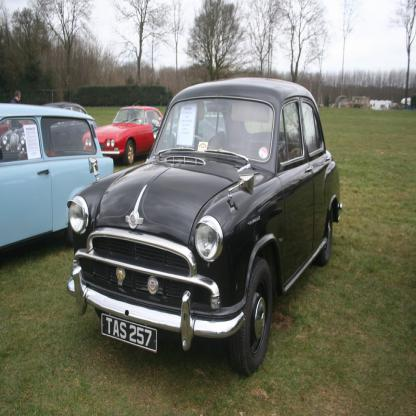Car: (0, 77, 342, 378)
